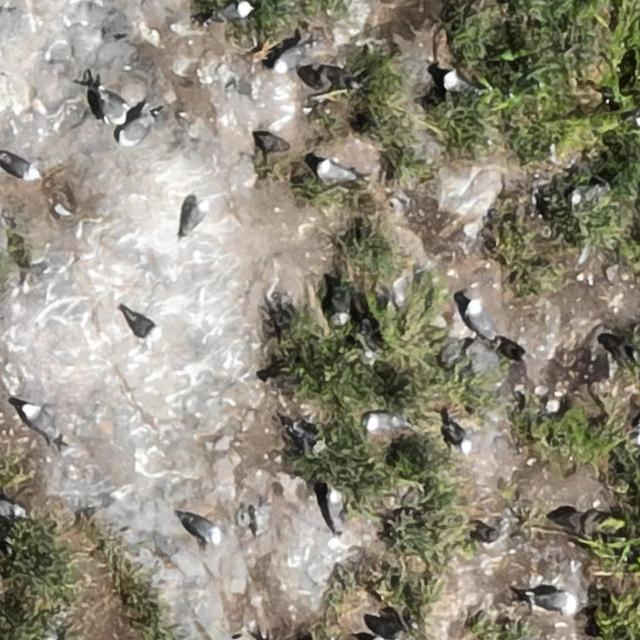umineko: (19, 400, 60, 443), (117, 109, 160, 149), (89, 81, 125, 124), (182, 512, 223, 545), (122, 309, 162, 342), (530, 588, 578, 614), (182, 198, 210, 240), (328, 276, 352, 324), (446, 419, 472, 456), (468, 302, 492, 338), (3, 156, 37, 179), (276, 46, 303, 71), (319, 162, 352, 181), (366, 412, 400, 430), (328, 491, 344, 526), (571, 185, 600, 204), (221, 2, 251, 20), (443, 73, 467, 92), (1, 500, 24, 518)
